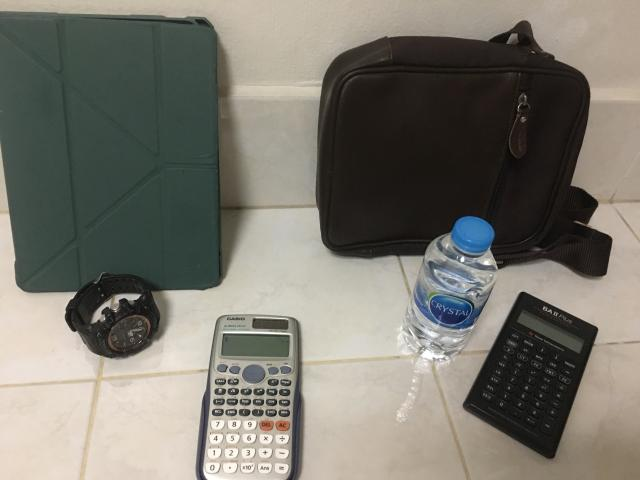Watch: (65, 272, 160, 358)
bottle: (402, 216, 498, 360)
